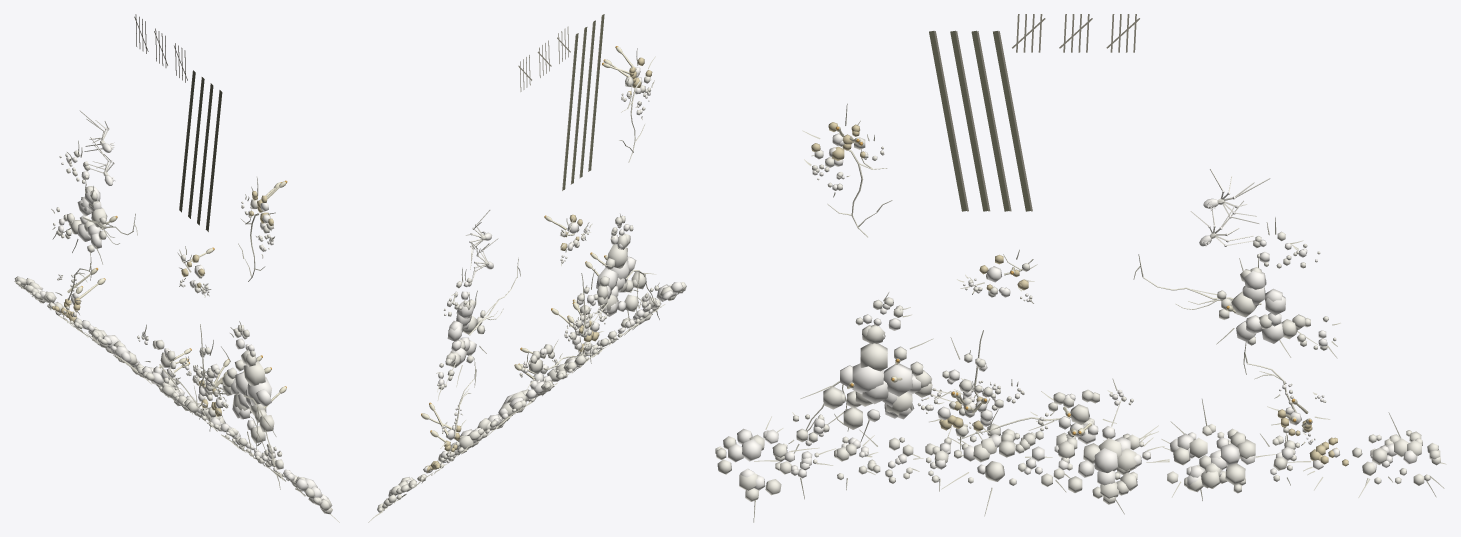
Rendered from fungus_wall@2.glb.
The picture shows the model from 3 angles, left to right: view 1: azimuth 30°, elevation 25°; view 2: azimuth 150°, elevation 25°; view 3: azimuth 270°, elevation 25°; orthographic projection. The views are drawn at different scales.
Parts seen in each view (by area): view 1: teil3, teil2, teil0, teil5, teil1, teil6, teil7, teil4, teil10; view 2: teil3, teil2, teil0, teil5, teil1, teil6, teil7, teil4, teil10; view 3: teil3, teil2, teil0, teil1, teil5, teil4, teil6, teil7.
Part boxes in pixels (x1,y1,x2,y2): teil3: (14, 150, 332, 514); teil2: (36, 156, 327, 499); teil0: (179, 70, 222, 231); teil5: (14, 140, 339, 522); teil1: (134, 14, 219, 229); teil6: (68, 209, 275, 466); teil7: (67, 181, 286, 408); teil4: (52, 191, 273, 416); teil10: (79, 110, 113, 176); teil3: (377, 76, 686, 512); teil2: (388, 67, 683, 496); teil0: (563, 14, 604, 190); teil5: (368, 48, 682, 522); teil1: (518, 15, 602, 190); teil6: (454, 80, 655, 436); teil7: (421, 46, 636, 442); teil4: (417, 57, 652, 479); teil10: (465, 210, 498, 281); teil3: (715, 137, 1440, 504); teil2: (727, 133, 1417, 490); teil0: (929, 30, 1030, 211); teil1: (934, 14, 1139, 211); teil5: (753, 103, 1446, 522); teil4: (811, 122, 1348, 466); teil6: (806, 146, 1296, 440); teil7: (835, 126, 1312, 435).
Size of the model in its own units: 0.205 by 1.13 by 1.55.
